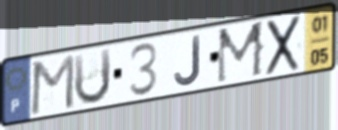3: (128, 41, 160, 98)
J: (173, 33, 204, 88)
M: (214, 19, 267, 87), (28, 52, 76, 118)
U: (71, 45, 113, 107)
X: (264, 12, 303, 79)
